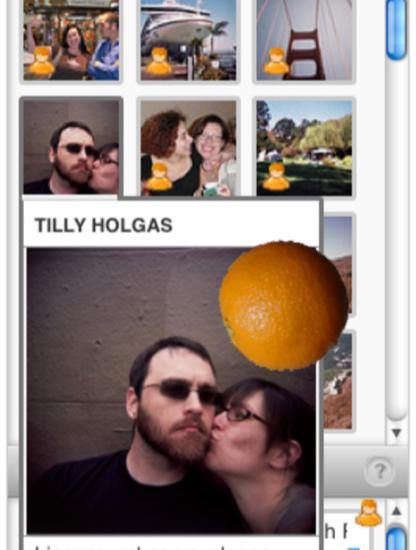Orange: (218, 238, 354, 374)
